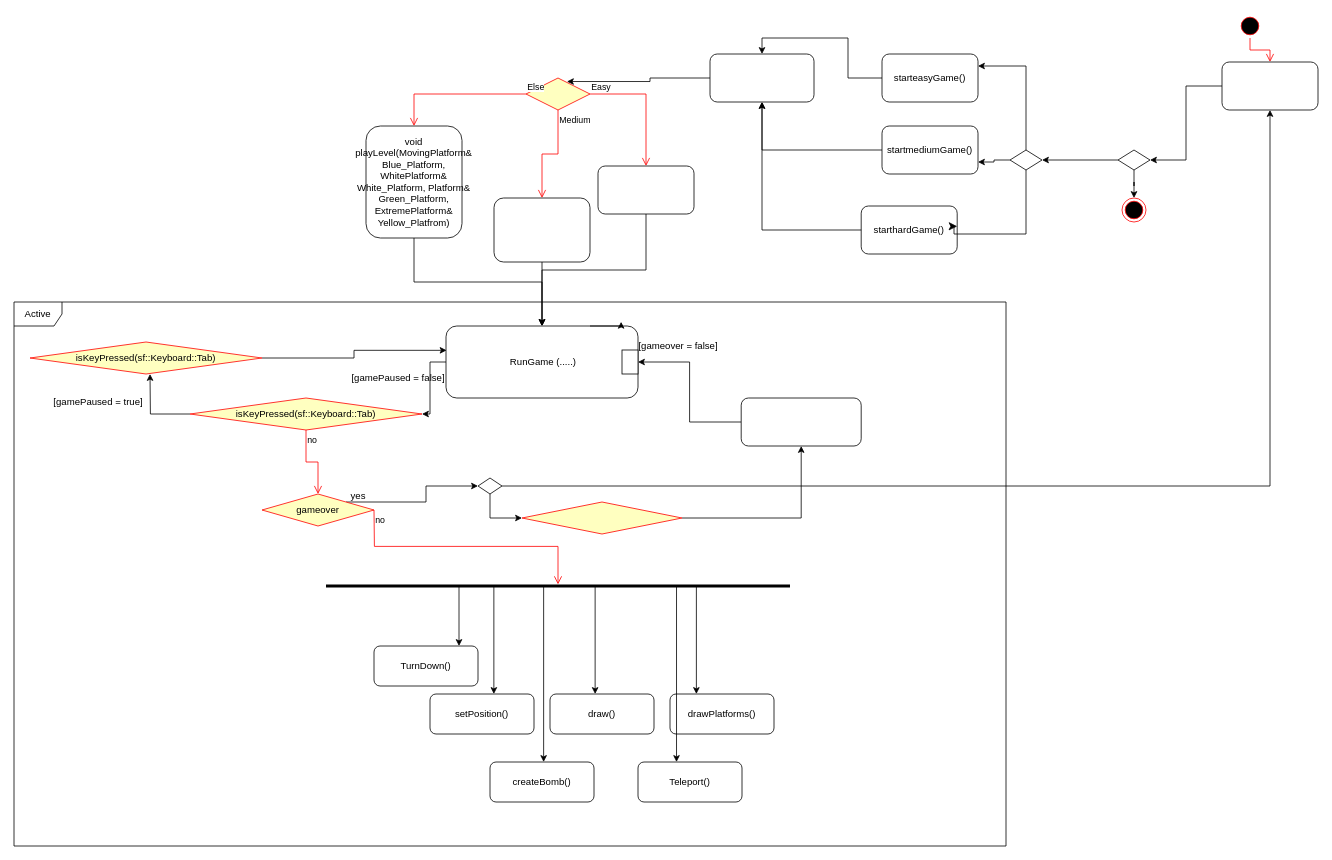
The diagram is 1332 pixels wide and 860 high, and some of its shapes have lost their labels. Here are the shapes that lost their labels. From the top down, the centre of each, then its label:
At point (557, 93): "Mylevel".
At point (761, 77): "startDoodleGame(const std::string& mylevel)".
At point (1269, 85): "menu".
At point (645, 189): "void playLevel(Platform& Green_Platform)".
At point (541, 229): "void playLevel(Platform& Green_Platform, WhitePlatform& White_Platform)".
At point (800, 421): "ResetGame (.....)".
At point (601, 517): "isKeyPressed(sf::Keyboard::F2)".
